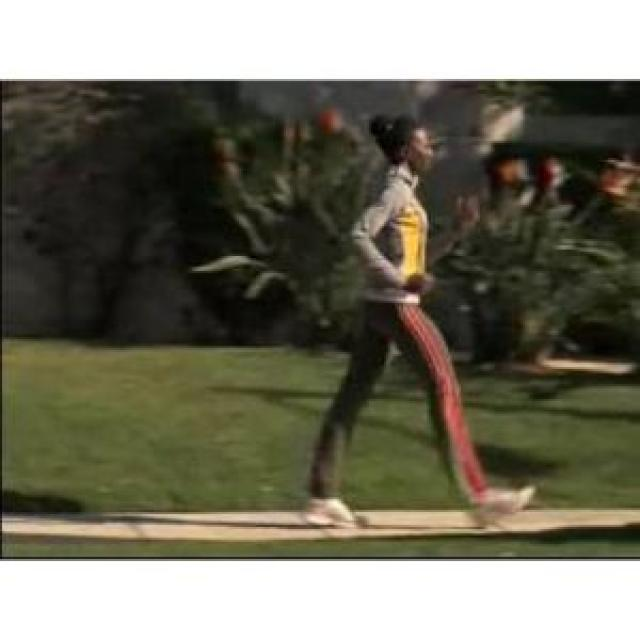nonfall: (260, 98, 552, 533)
